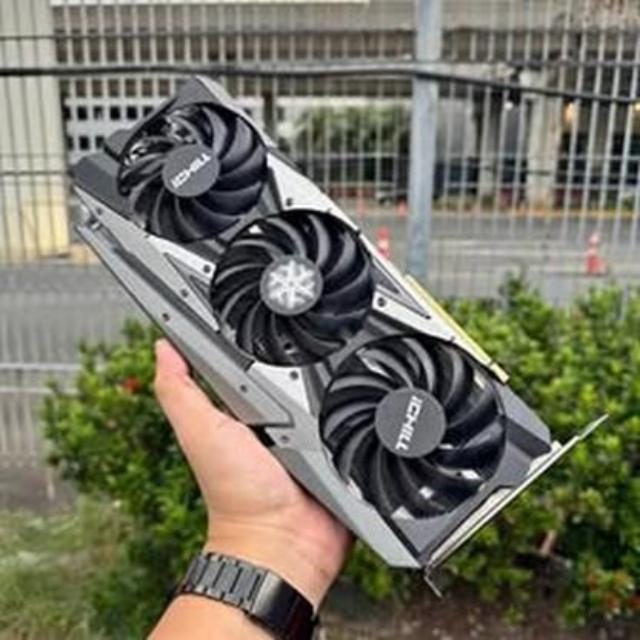GPU: (81, 79, 559, 576)
